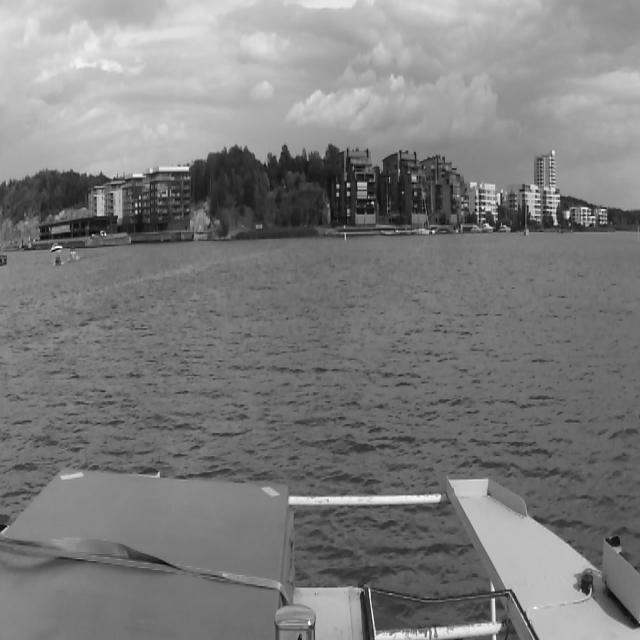buoy: (344, 223, 346, 239)
ship: (412, 186, 434, 236), (523, 194, 529, 239), (499, 222, 511, 235), (49, 242, 63, 252), (485, 222, 493, 236), (470, 223, 480, 234), (53, 255, 61, 268), (68, 251, 78, 261)
